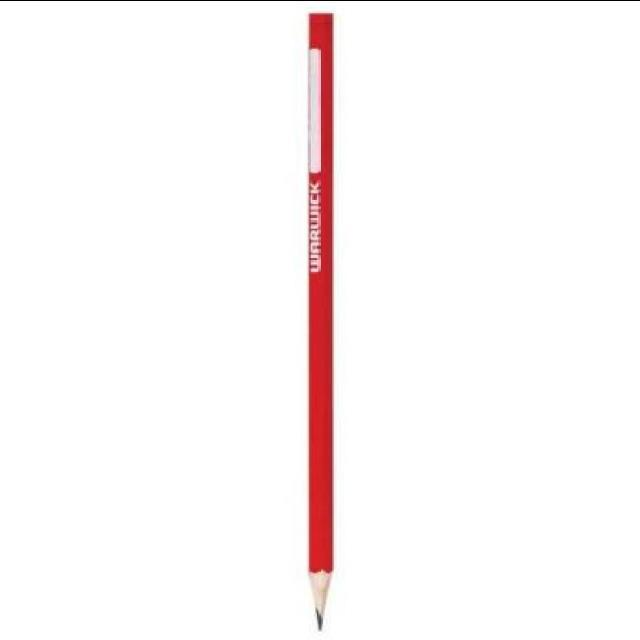pencil: (297, 542, 345, 640)
